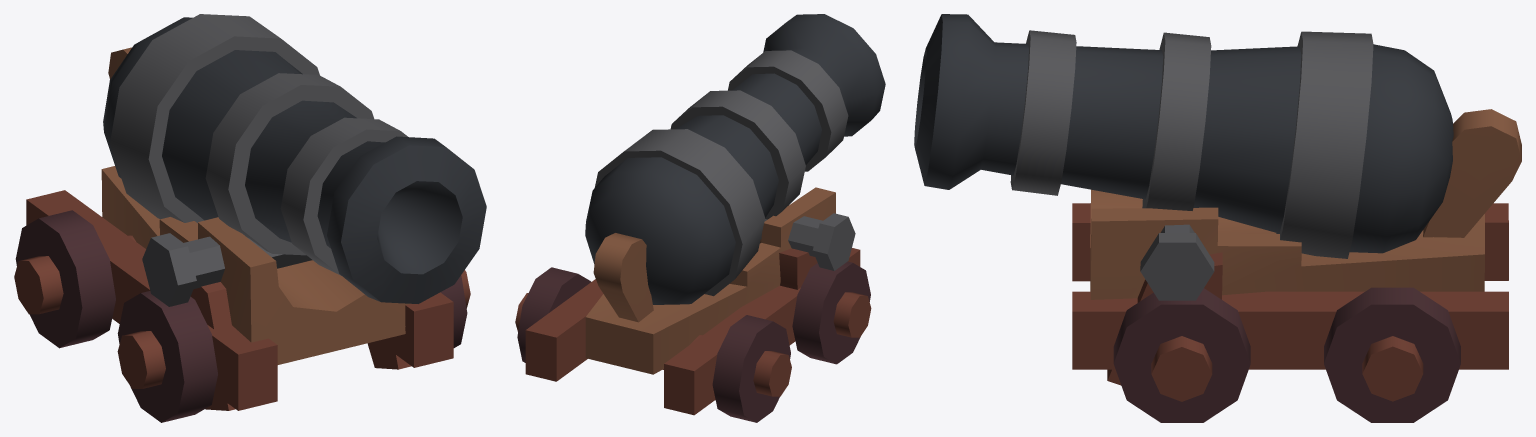
Rendered from Cannon_03.fbx.
3 views of the same model, side by side, from view 1: azimuth 30°, elevation 25°; view 2: azimuth 150°, elevation 25°; view 3: azimuth 270°, elevation 25° (orthographic). The views are drawn at different scales.
Visible parts, largest first — view 1: Cannon_03; view 2: Cannon_03; view 3: Cannon_03.
Boxes of the visible parts, x1,y1,x2,y2 form: Cannon_03: (14, 14, 486, 422); Cannon_03: (515, 14, 885, 422); Cannon_03: (914, 14, 1521, 422).
Bounding box in the file's own units: 105 × 98.69 × 165.
